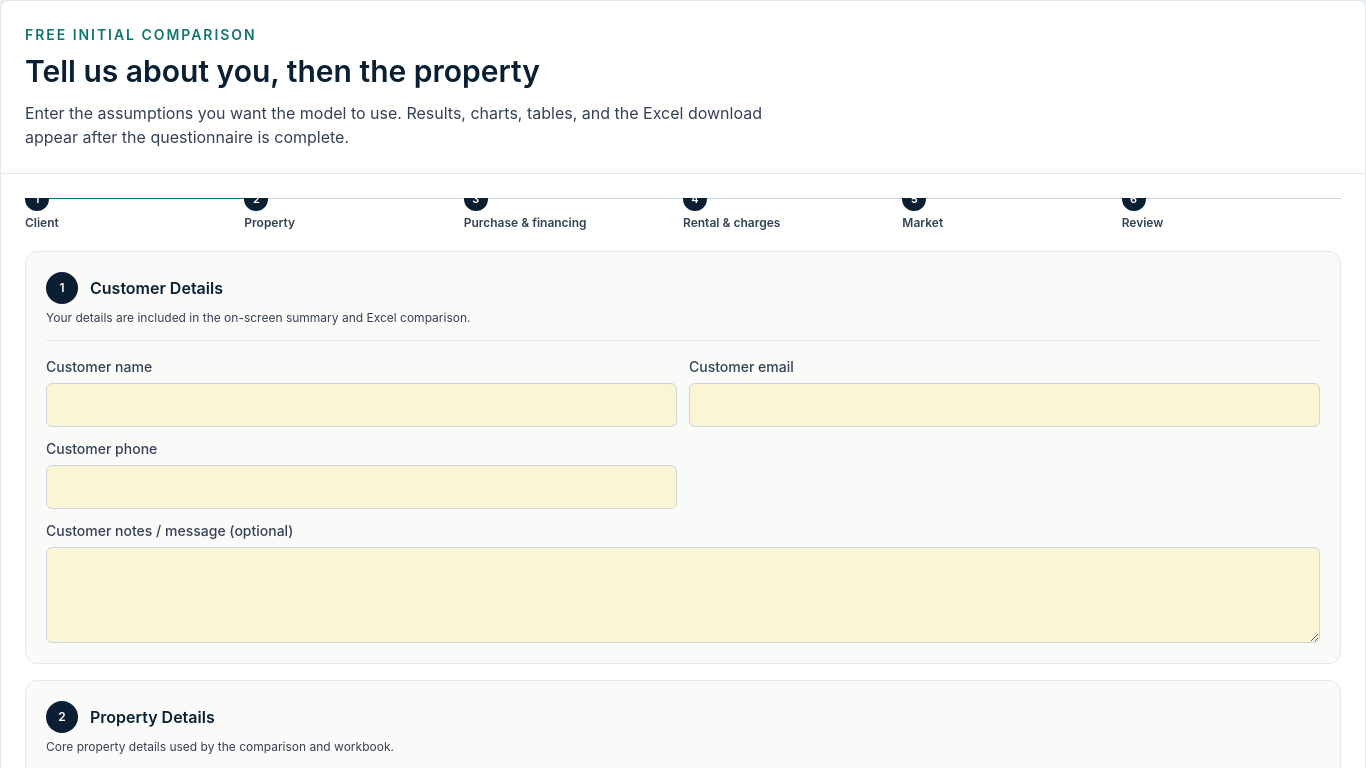
it: comparison calculator › downloads the browser workbook when no API is configured
Type "Sample User" into the field labelled "Customer name" at coordinates (362, 405), box [46,383,677,427]
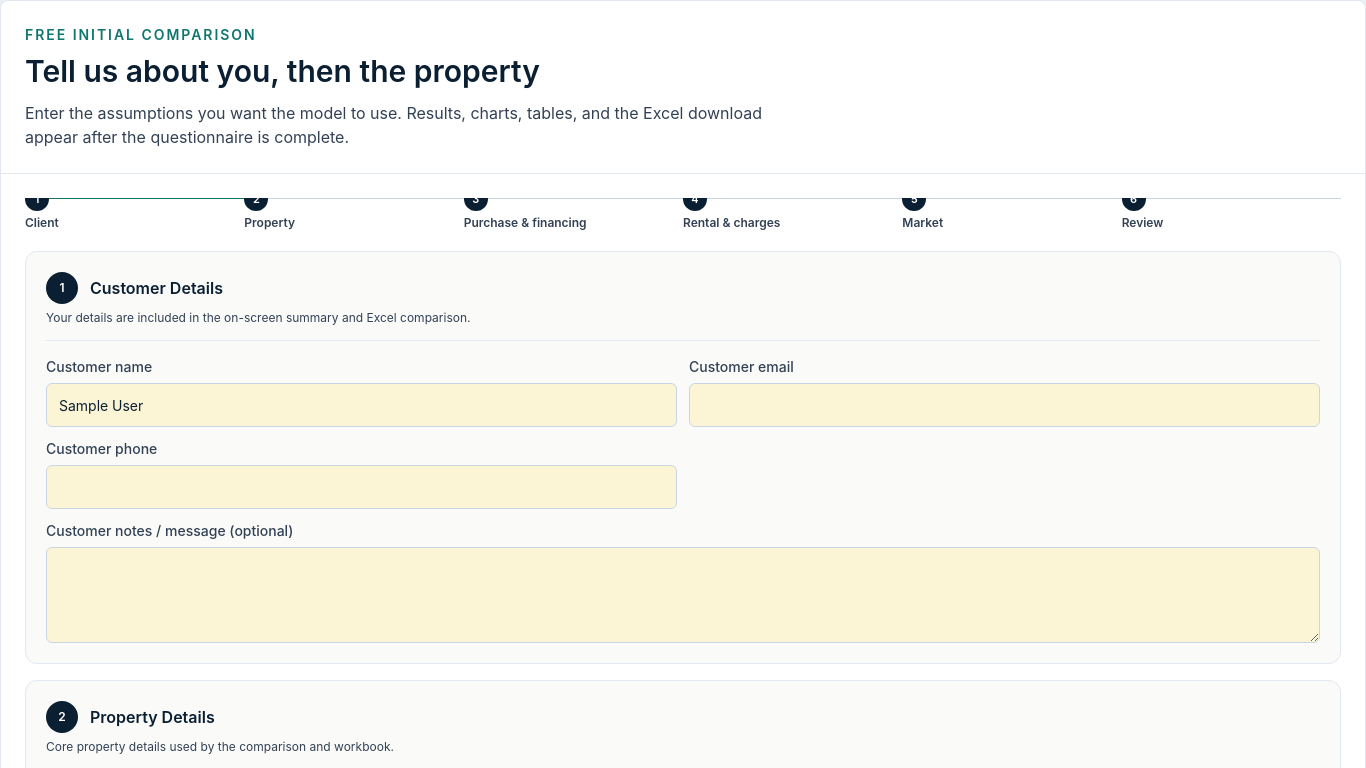
Type "user@example.com" into the field labelled "Customer email" at coordinates (1004, 405), box [689,383,1320,427]
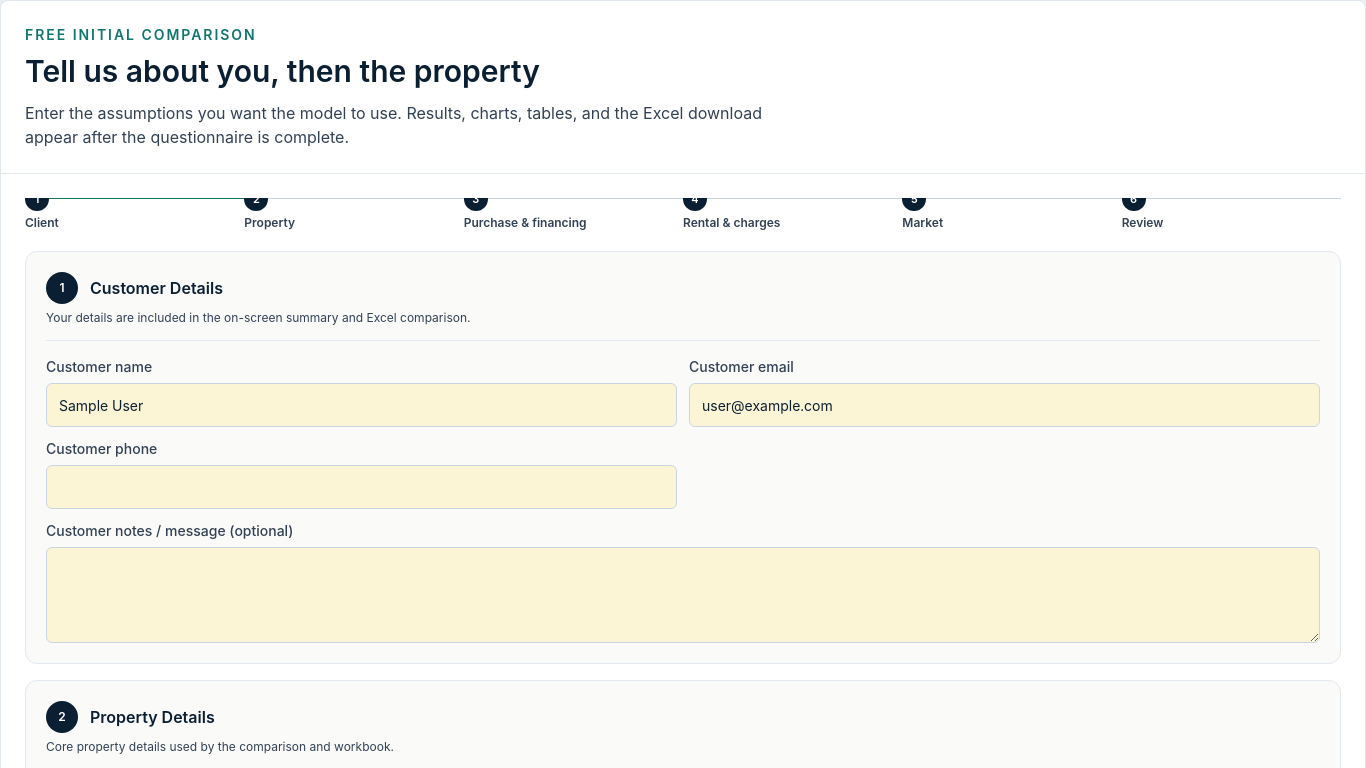
Type "+971 50 123 4567" into the field labelled "Customer phone" at coordinates (362, 487), box [46,465,677,509]
(page scrolled)
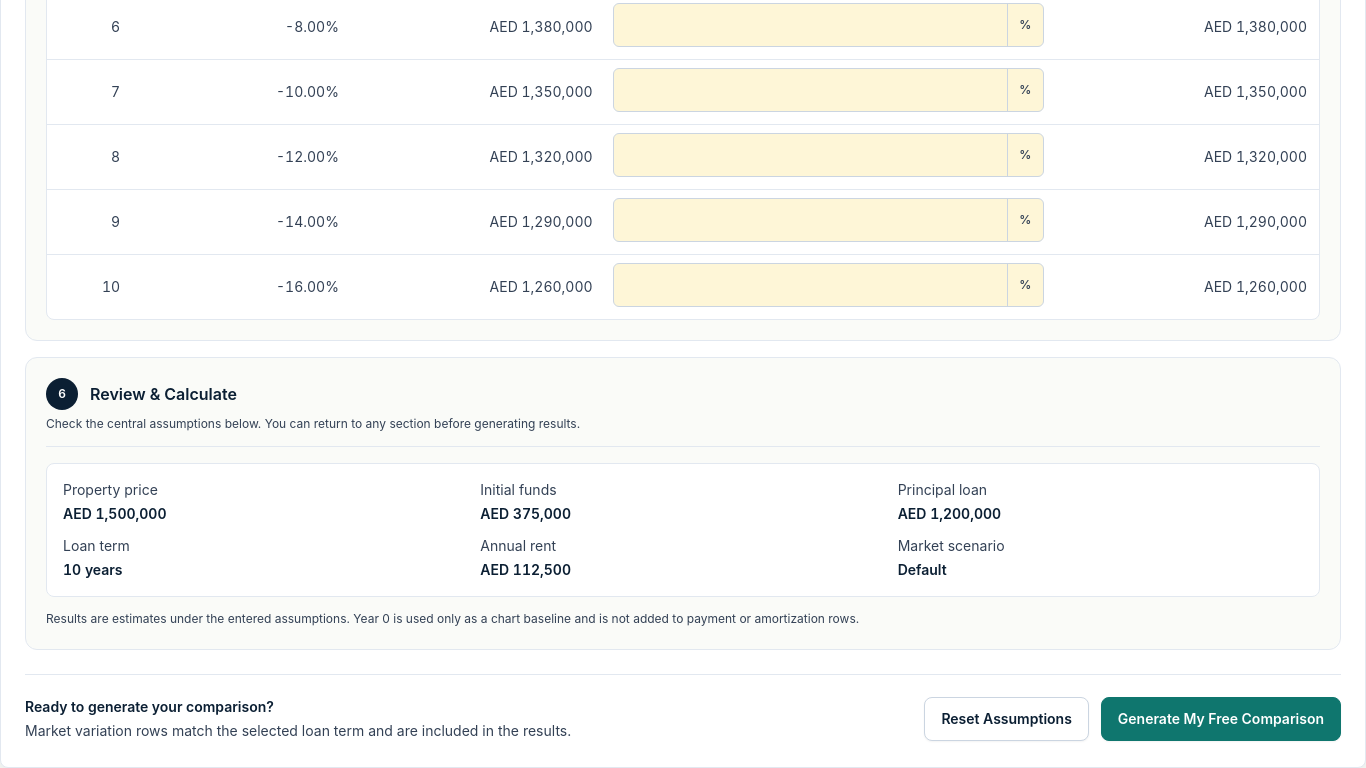
Click the button "Generate My Free Comparison" at coordinates (1221, 719), box [1101,697,1341,741]
(page scrolled)
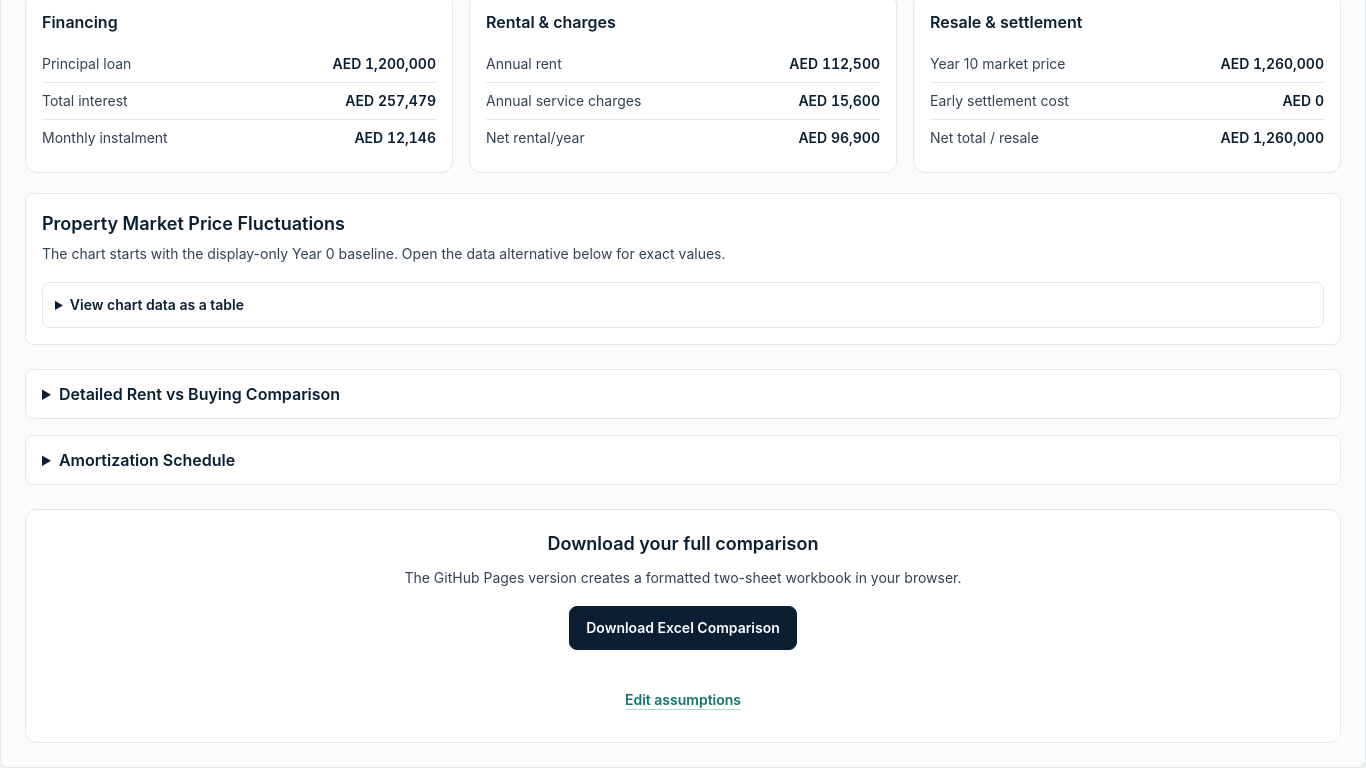
Click the button "Download Excel Comparison" at coordinates (683, 628), box [569,606,797,650]
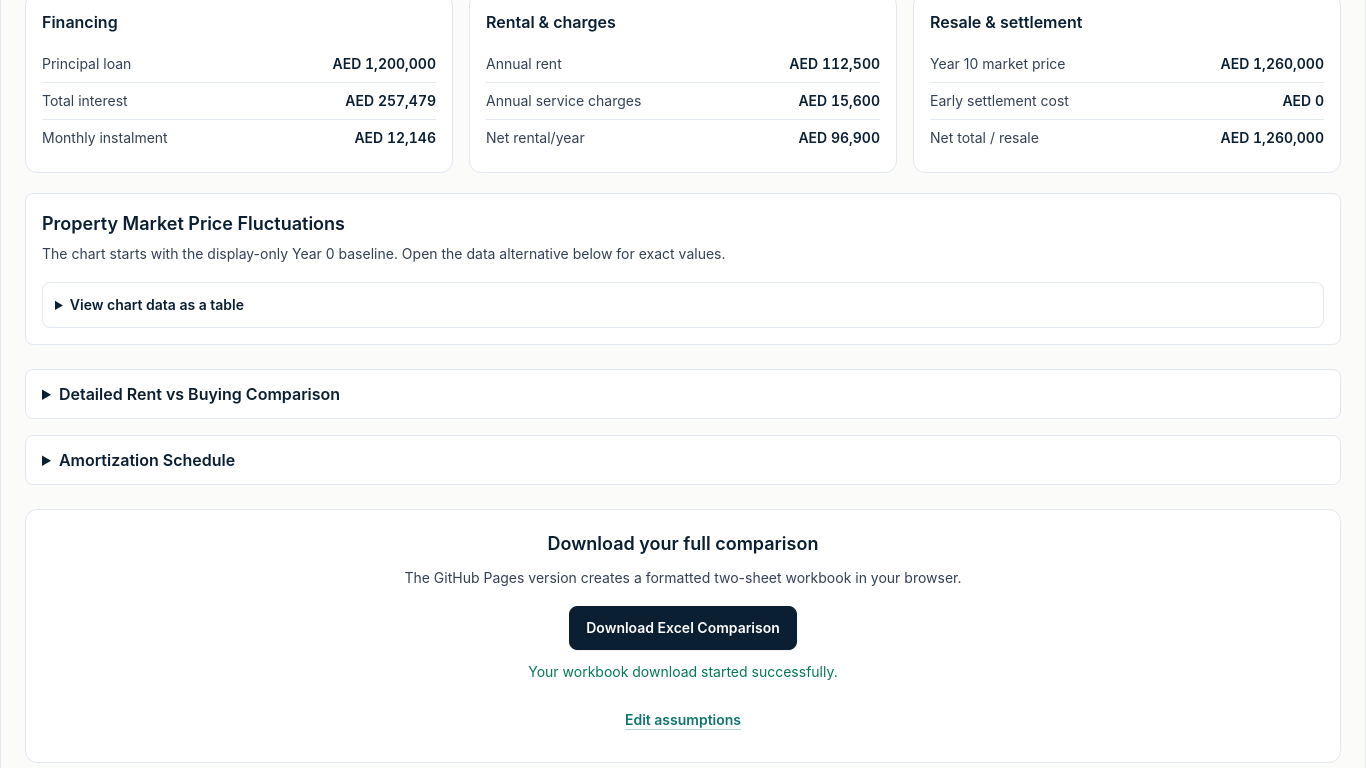
Now the text "Your workbook download started successfully." is shown, box [528,663,838,680]
